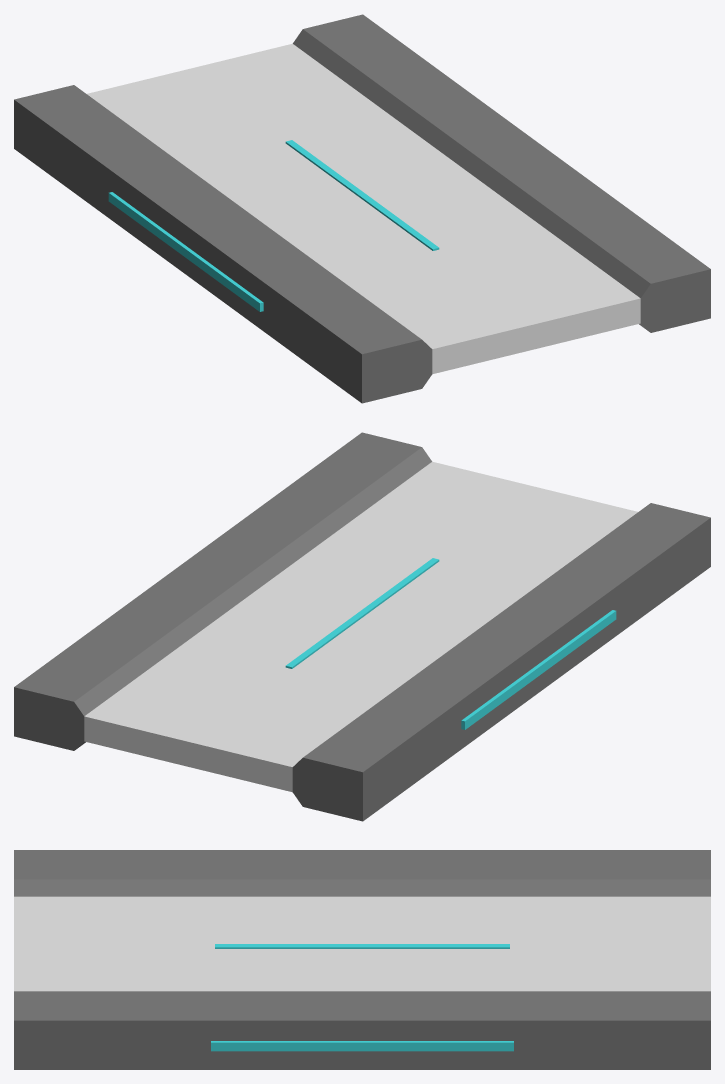
The picture shows the model from 3 angles, top to bottom: view 1: azimuth 30°, elevation 25°; view 2: azimuth 150°, elevation 25°; view 3: azimuth 270°, elevation 25°; orthographic projection.
Visible parts, largest first — view 1: Root; view 2: Root; view 3: Root.
Part boxes in pixels (box(x1,y1,x2,y2)): Root: box(14, 14, 710, 403); Root: box(14, 432, 710, 821); Root: box(14, 850, 710, 1069).
Size of the model in its own units: 2383 by 315 by 4032.
